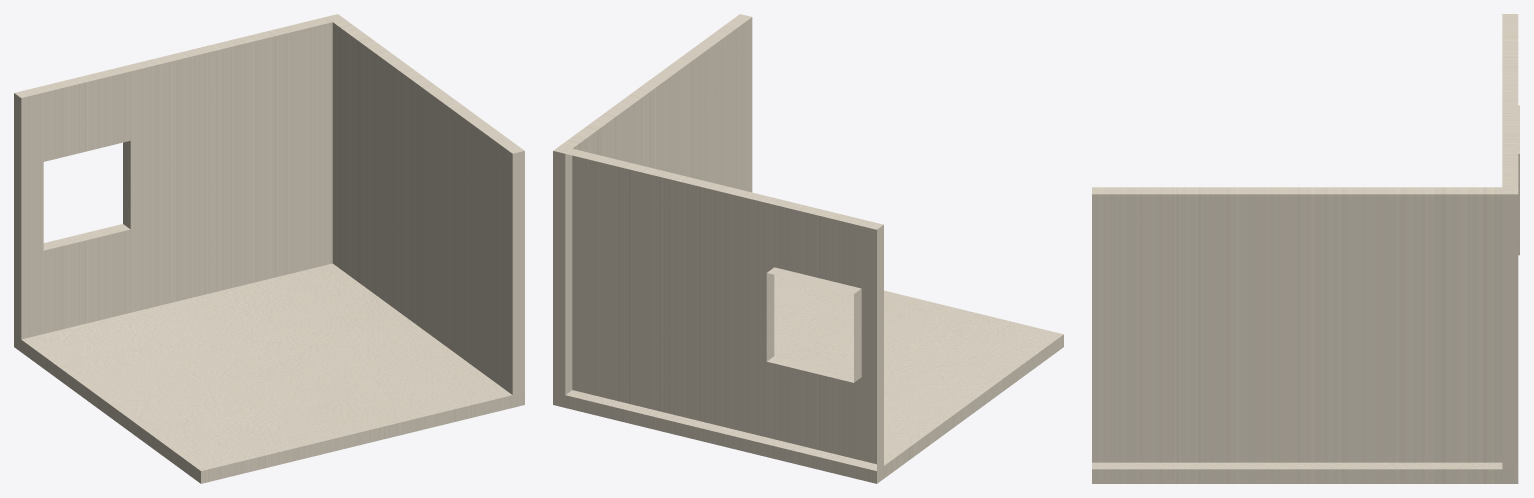
File: Walls.fbx
The picture shows the model from 3 angles, left to right: view 1: azimuth 30°, elevation 25°; view 2: azimuth 150°, elevation 25°; view 3: azimuth 270°, elevation 25°; orthographic projection. The views are drawn at different scales.
Parts seen in each view (by area): view 1: witch's house.004; view 2: witch's house.004; view 3: witch's house.004.
Boxes of the visible parts, box(x1,y1,x2,y2) form: witch's house.004: box(14, 14, 524, 483); witch's house.004: box(553, 14, 1063, 483); witch's house.004: box(1092, 14, 1519, 483).
Bounding box in the file's own units: 400 × 300 × 401.
Materials: 1 (1 with a texture image).
